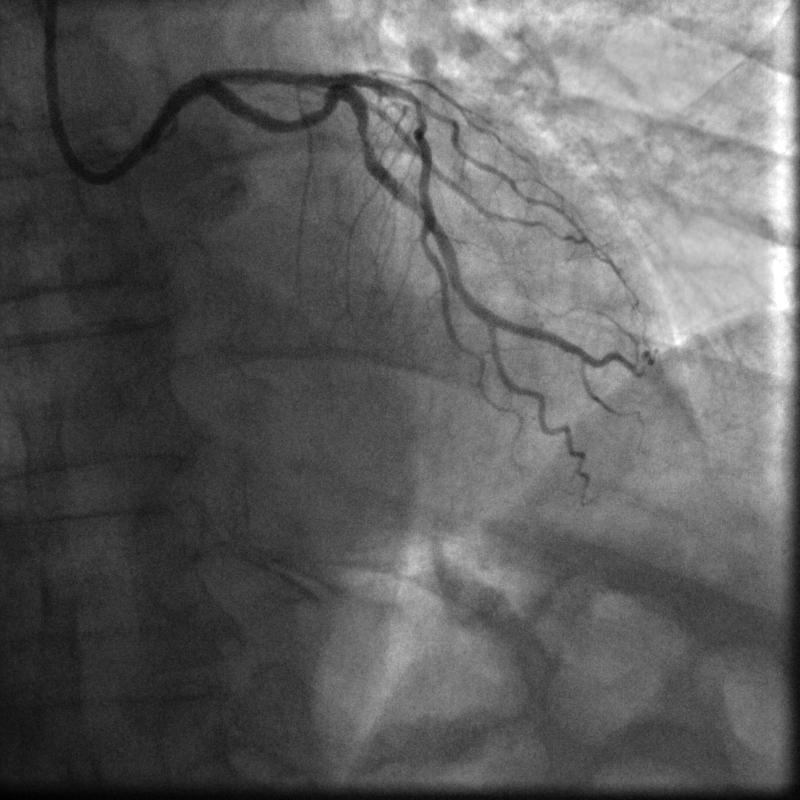Stenosis: (359, 129, 374, 147)
